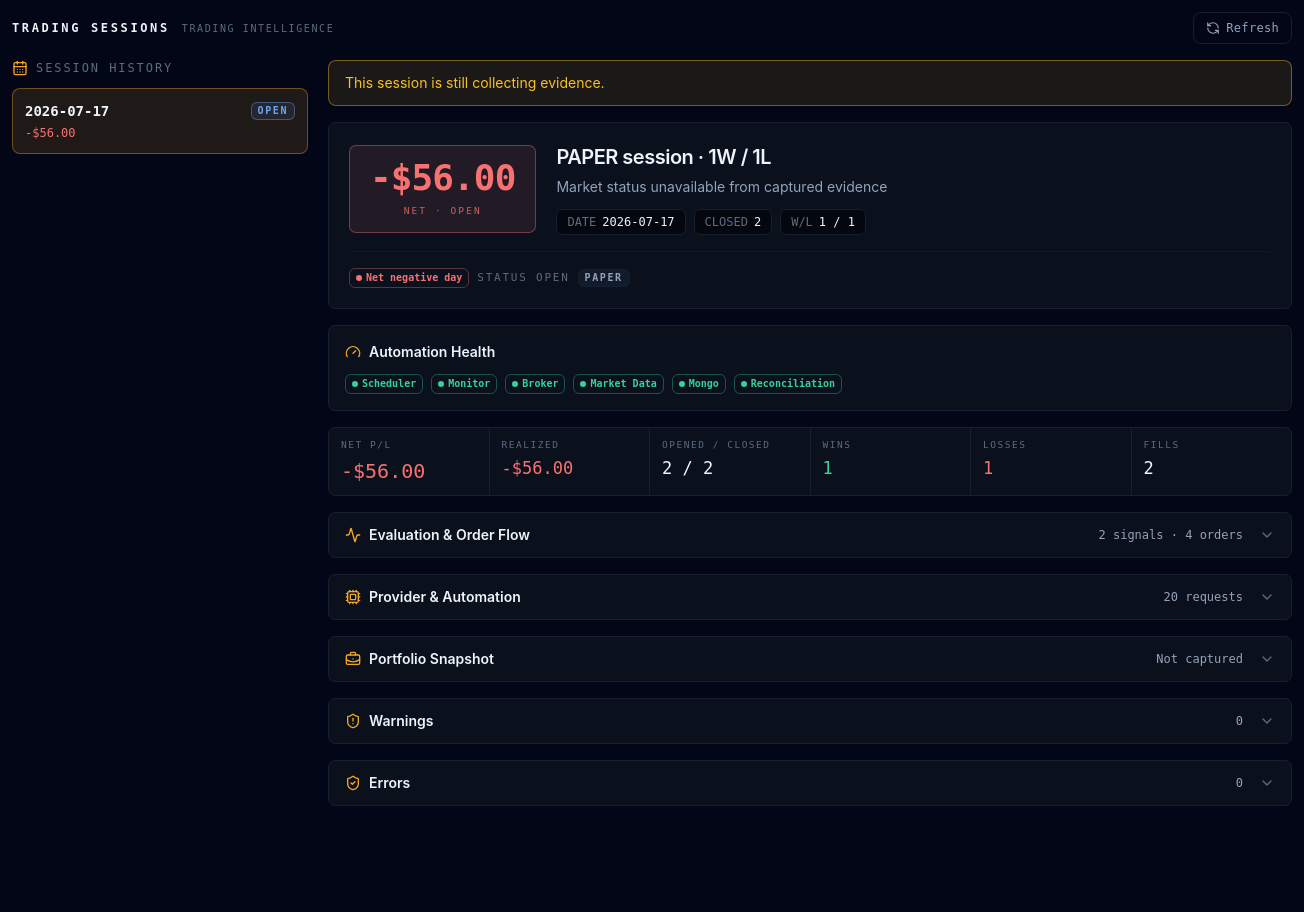
Test: TradingSessionsPage › renders collecting and unavailable states honestly
Expected: the text "This session is still collecting evidence." is shown, [328,60,1292,106]
Expected: the text "Market status unavailable from captured evidence" is shown, [556,177,887,197]
Click the button "Provider & Automation 20 requests". click: (445, 597)
box: [329,575,1291,619]
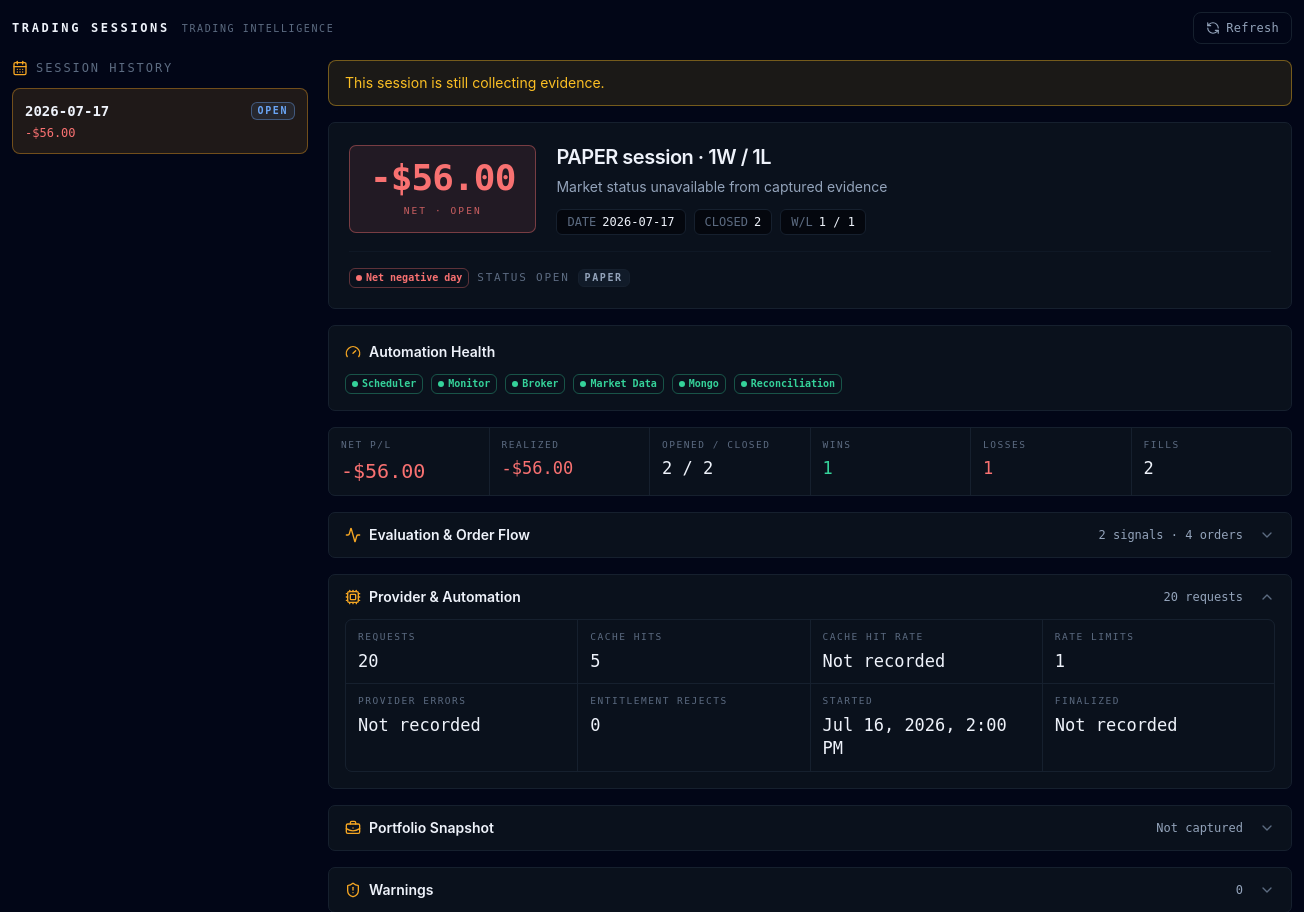
Expected: the text "Not recorded" below "Cache Hit Rate" is shown, [822,651,945,671]
